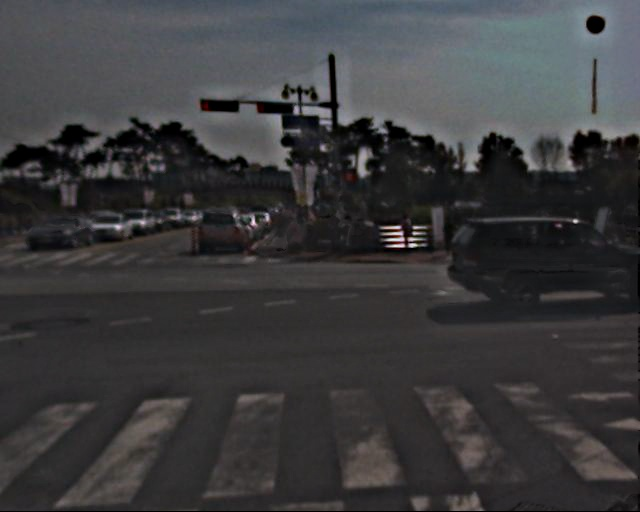person: (271, 210, 315, 252), (401, 211, 420, 257), (328, 215, 346, 259)
